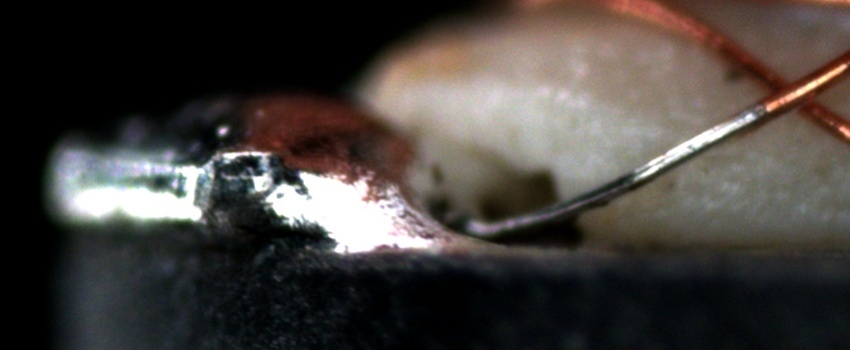CL: (745, 56, 839, 125)
TS: (465, 102, 772, 237)
